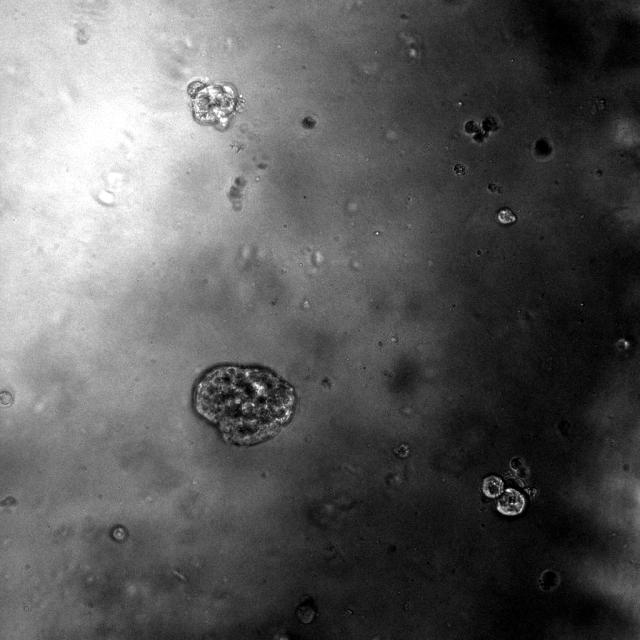organoid: (192, 364, 296, 445), (479, 456, 536, 519), (187, 80, 243, 130), (464, 115, 499, 142), (228, 176, 246, 210), (538, 569, 561, 592), (496, 207, 517, 225), (109, 525, 129, 543), (534, 138, 552, 157), (301, 115, 317, 129), (0, 390, 13, 406)
